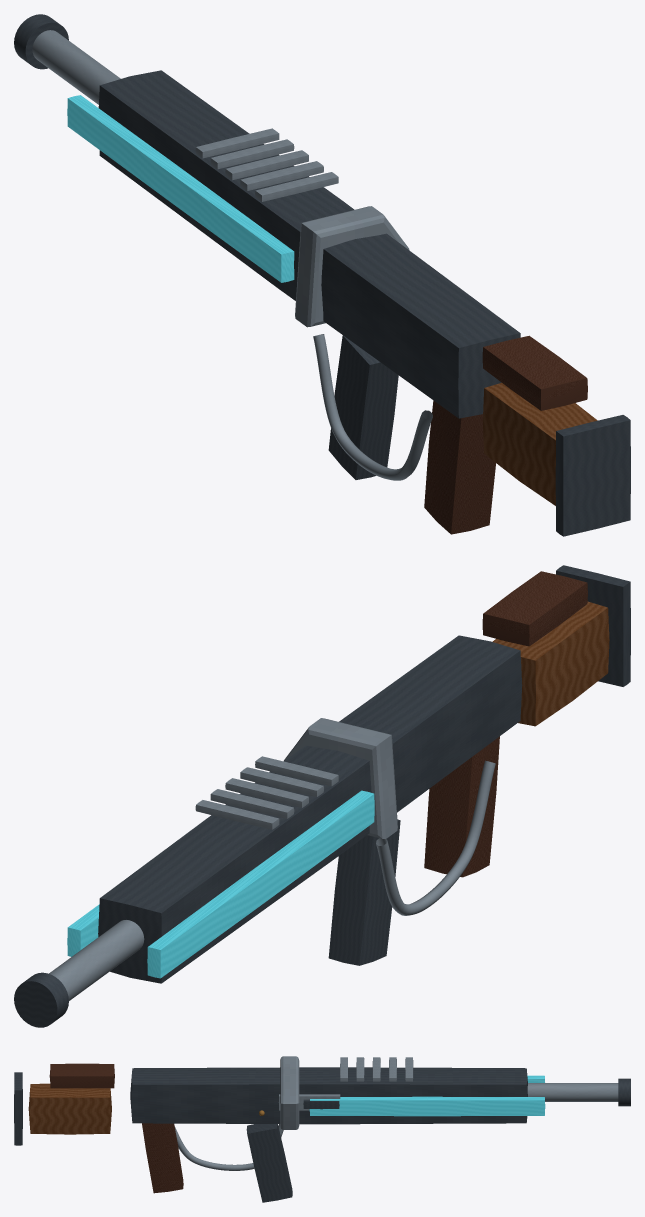
Rendered from railgun.glb.
3 renders of one model, top to bottom at view 1: azimuth 30°, elevation 25°; view 2: azimuth 150°, elevation 25°; view 3: azimuth 270°, elevation 25°, orthographic. The views are drawn at different scales.
Parts seen in each view (by area): view 1: iron.0, crystal.10, iron.20, leather.1, wood.8, iron.9, leather.19, steel.12, steel.13, steel.2, iron.18, steel.3 (+4 smaller); view 2: iron.0, crystal.10, wood.8, iron.9, leather.1, leather.19, steel.12, iron.20, steel.2, steel.13, iron.18, steel.3 (+5 smaller); view 3: iron.0, crystal.11, wood.8, iron.9, leather.1, leather.19, steel.2, steel.12, iron.20, steel.13, iron.18, steel.14 (+1 smaller).
Part boxes in pixels (bbox=[...]): iron.0: bbox=[98, 70, 520, 418]; crystal.10: bbox=[67, 95, 294, 282]; iron.20: bbox=[555, 415, 630, 536]; leather.1: bbox=[424, 400, 495, 534]; wood.8: bbox=[482, 382, 597, 505]; iron.9: bbox=[328, 335, 398, 479]; leather.19: bbox=[482, 335, 587, 410]; steel.12: bbox=[295, 206, 409, 327]; steel.13: bbox=[313, 334, 432, 480]; steel.2: bbox=[32, 30, 120, 104]; iron.18: bbox=[14, 14, 68, 69]; steel.3: bbox=[195, 128, 279, 158]; iron.0: bbox=[98, 635, 522, 983]; crystal.10: bbox=[147, 790, 374, 978]; wood.8: bbox=[492, 601, 609, 726]; iron.9: bbox=[328, 819, 400, 965]; leather.1: bbox=[424, 736, 499, 877]; leather.19: bbox=[482, 571, 587, 646]; steel.12: bbox=[284, 718, 397, 838]; iron.20: bbox=[556, 565, 630, 686]; steel.2: bbox=[49, 920, 144, 1000]; steel.13: bbox=[376, 760, 495, 915]; iron.18: bbox=[14, 972, 68, 1027]; steel.3: bbox=[195, 800, 279, 829]; iron.0: bbox=[130, 1067, 527, 1124]; crystal.11: bbox=[309, 1096, 545, 1116]; wood.8: bbox=[28, 1083, 111, 1134]; iron.9: bbox=[246, 1124, 292, 1202]; leather.1: bbox=[142, 1123, 183, 1193]; leather.19: bbox=[49, 1063, 114, 1088]; steel.2: bbox=[527, 1083, 618, 1101]; steel.12: bbox=[280, 1056, 299, 1129]; iron.20: bbox=[14, 1072, 22, 1145]; steel.13: bbox=[174, 1124, 283, 1170]; iron.18: bbox=[618, 1078, 630, 1106]; steel.14: bbox=[278, 1094, 340, 1110].
Bounding box in the file's own units: 0.1819 × 0.403 × 1.7.
Materials: 6 (6 with a texture image).
